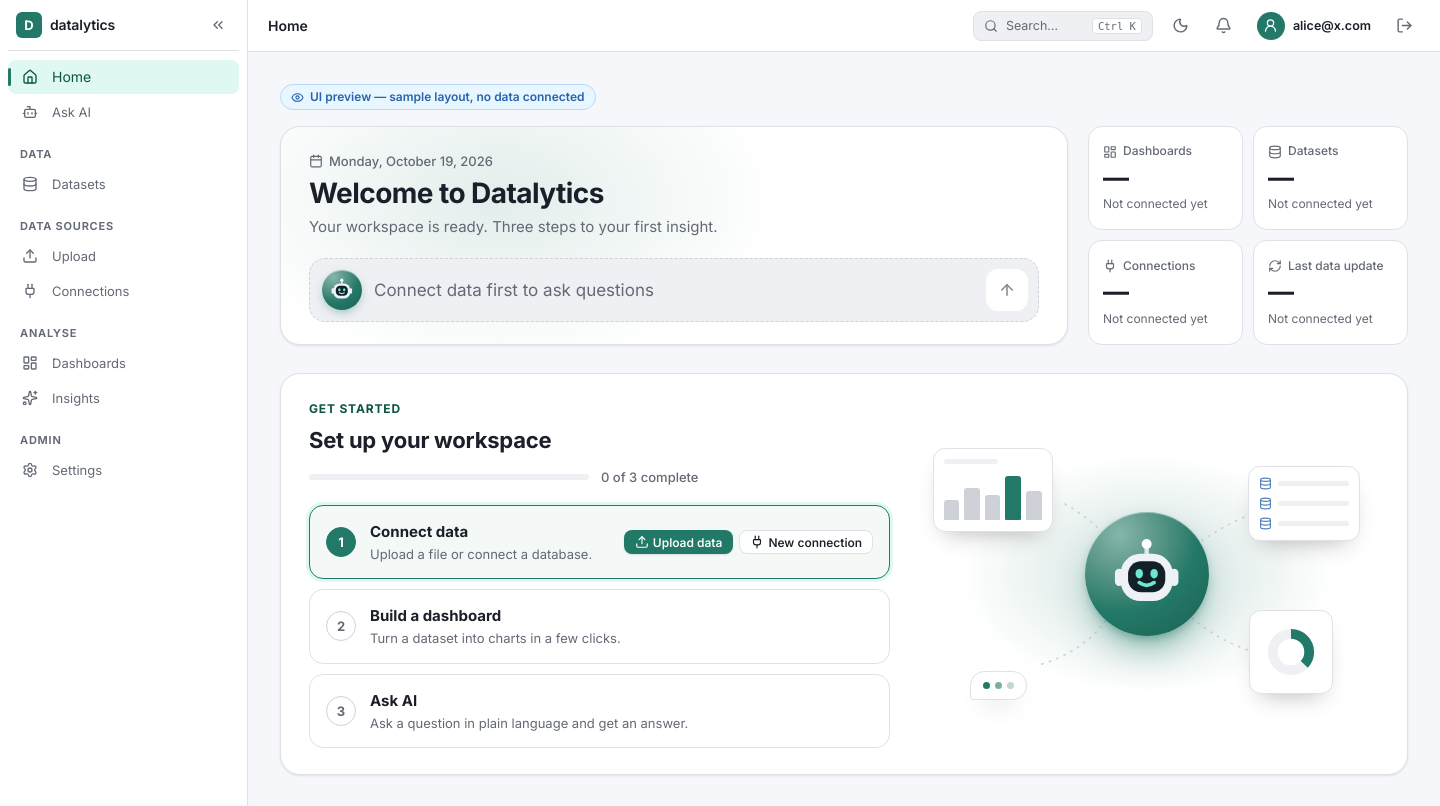
App: login comes first › signs out back to the login page
Click the button named "Sign out": (1404, 26) [1389,12,1420,39]
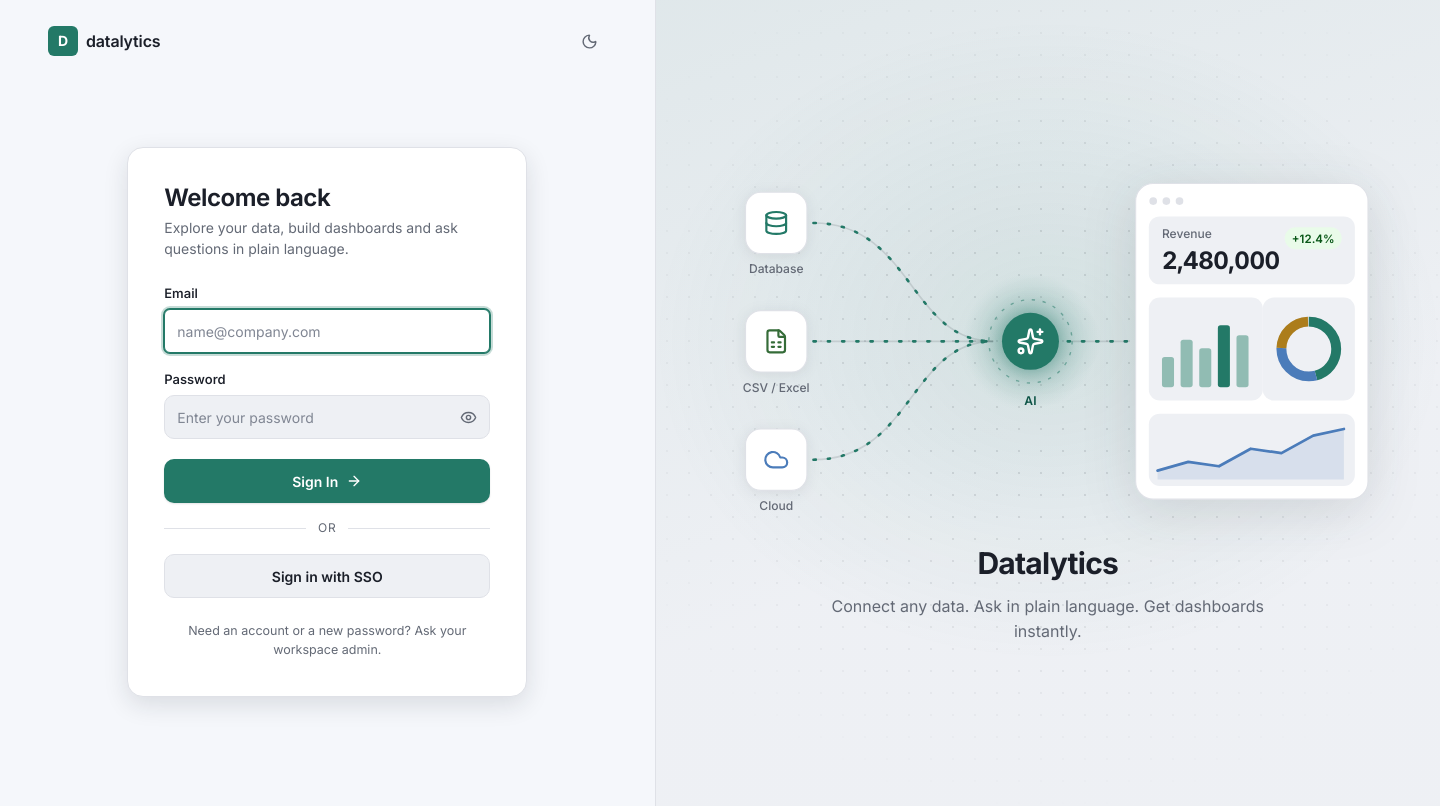
expect the heading "Welcome back" is shown: met, box [164,183,330,212]
